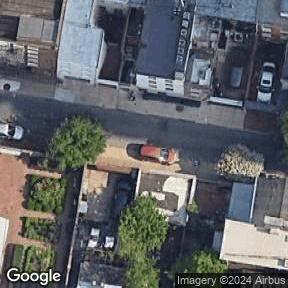vegetation: (109, 193, 172, 288), (44, 108, 113, 174), (27, 175, 67, 213), (219, 147, 263, 178), (11, 244, 54, 275), (175, 251, 226, 273), (23, 220, 54, 241), (187, 202, 201, 215)
